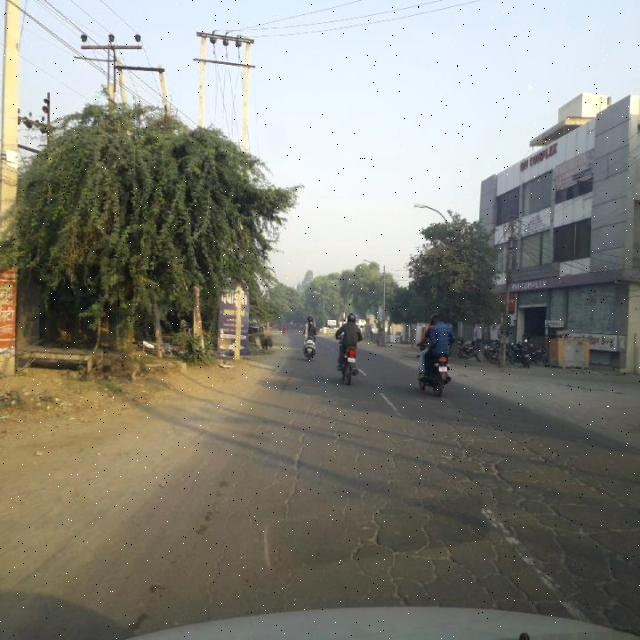D00: (263, 417, 312, 592)
D20: (325, 416, 639, 612)
D44: (474, 503, 588, 617)
